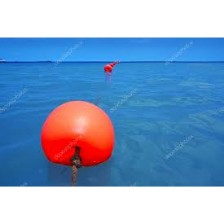buoy: (42, 100, 114, 166), (103, 62, 114, 72)
